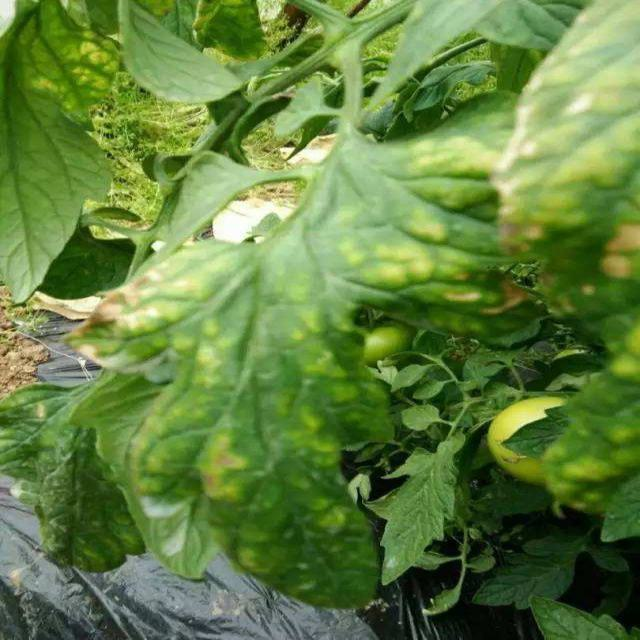Early_blight: (494, 56, 640, 301), (64, 262, 201, 372), (196, 433, 243, 508)
